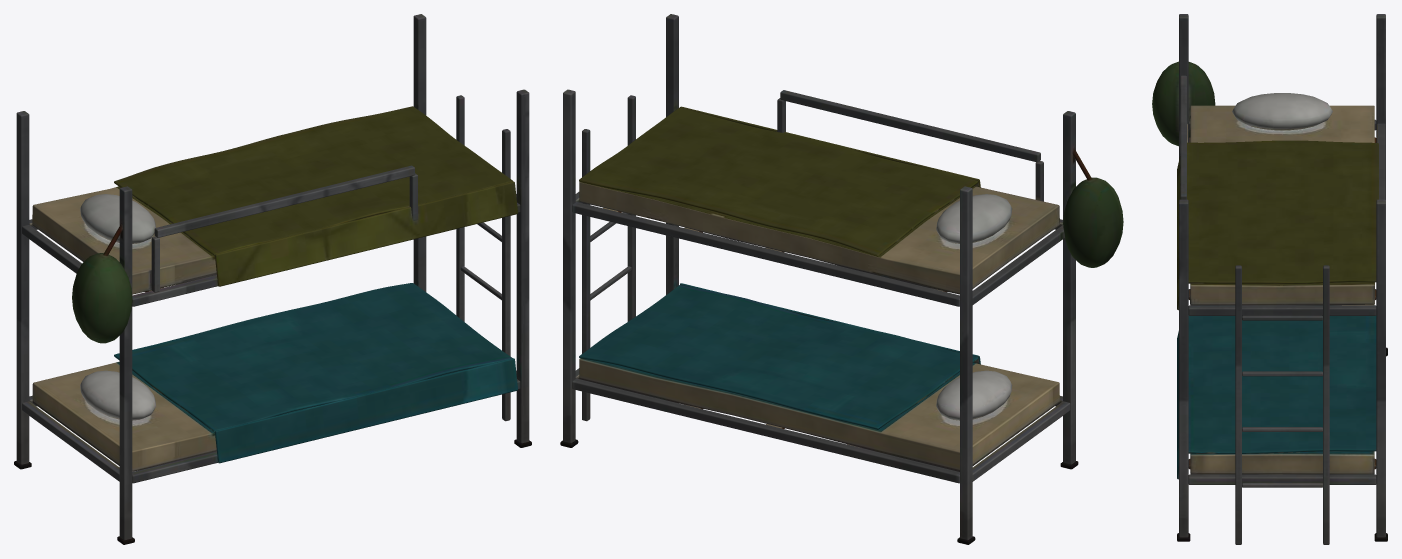
The model's file is bunk_bed.glb.
The picture shows the model from 3 angles, left to right: view 1: azimuth 30°, elevation 25°; view 2: azimuth 150°, elevation 25°; view 3: azimuth 270°, elevation 25°; orthographic projection. The views are drawn at different scales.
Visible parts, largest first — view 1: bunk_bed; view 2: bunk_bed; view 3: bunk_bed.
Part boxes in pixels (x1,y1,x2,y2): bunk_bed: [14, 14, 531, 544]; bunk_bed: [560, 14, 1123, 544]; bunk_bed: [1152, 14, 1387, 544].
Size of the model in its own units: 2.32 by 1.7 by 1.07.
Materials: 1 (1 with a texture image).
